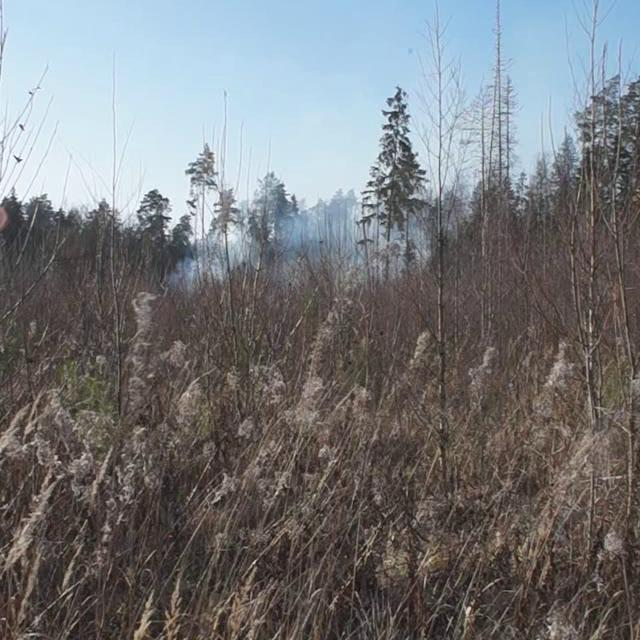Smoke: (157, 166, 486, 298)
